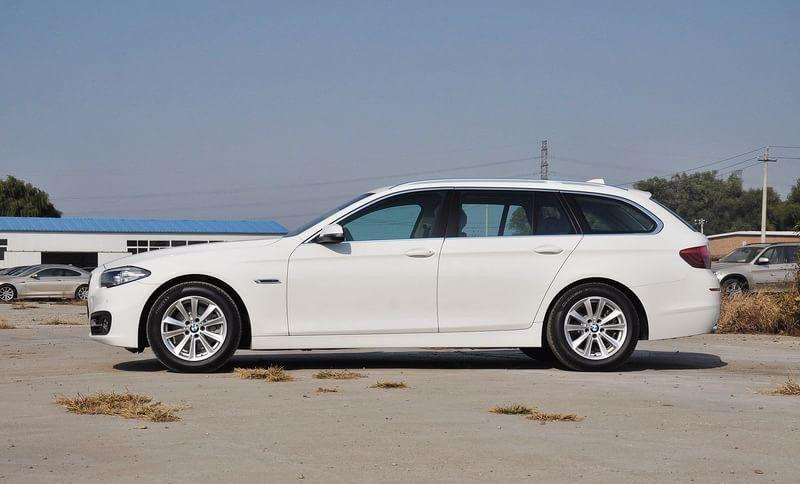Wagon: (85, 176, 723, 374)
